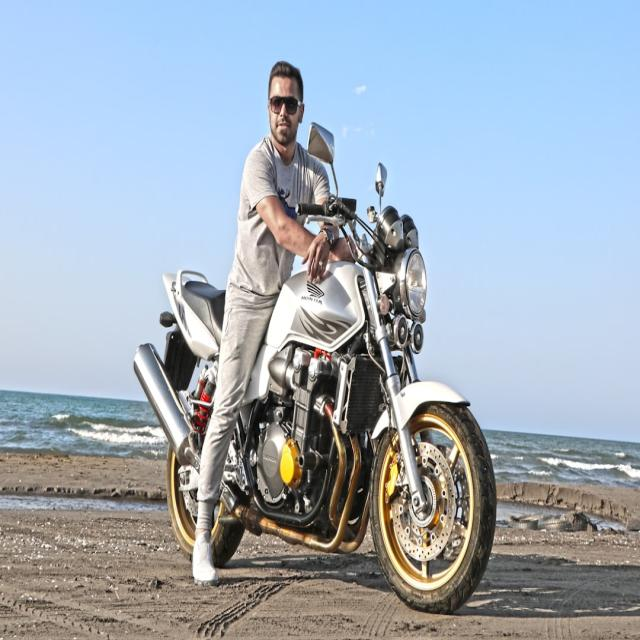Without Helmet: (266, 59, 307, 150)
